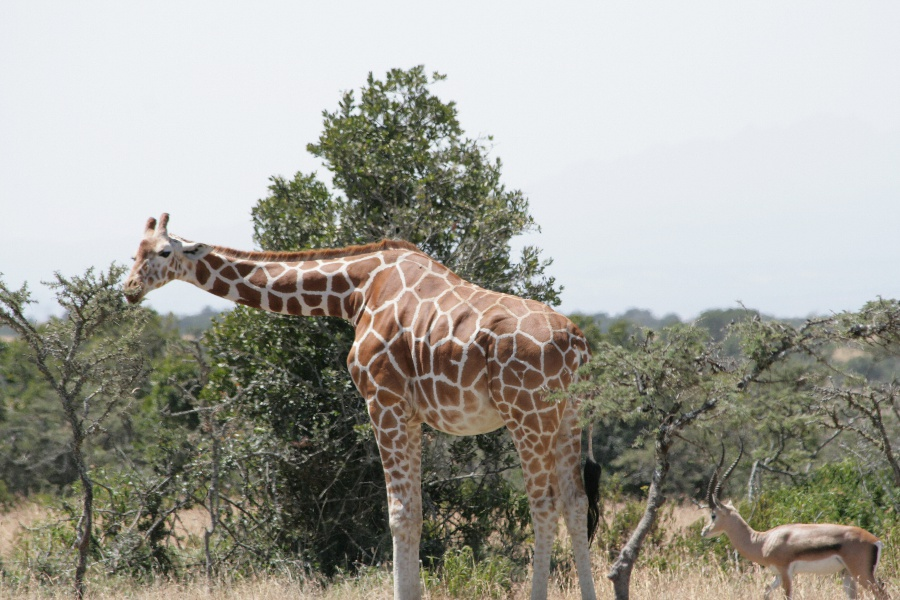giraffe: (118, 203, 635, 599)
